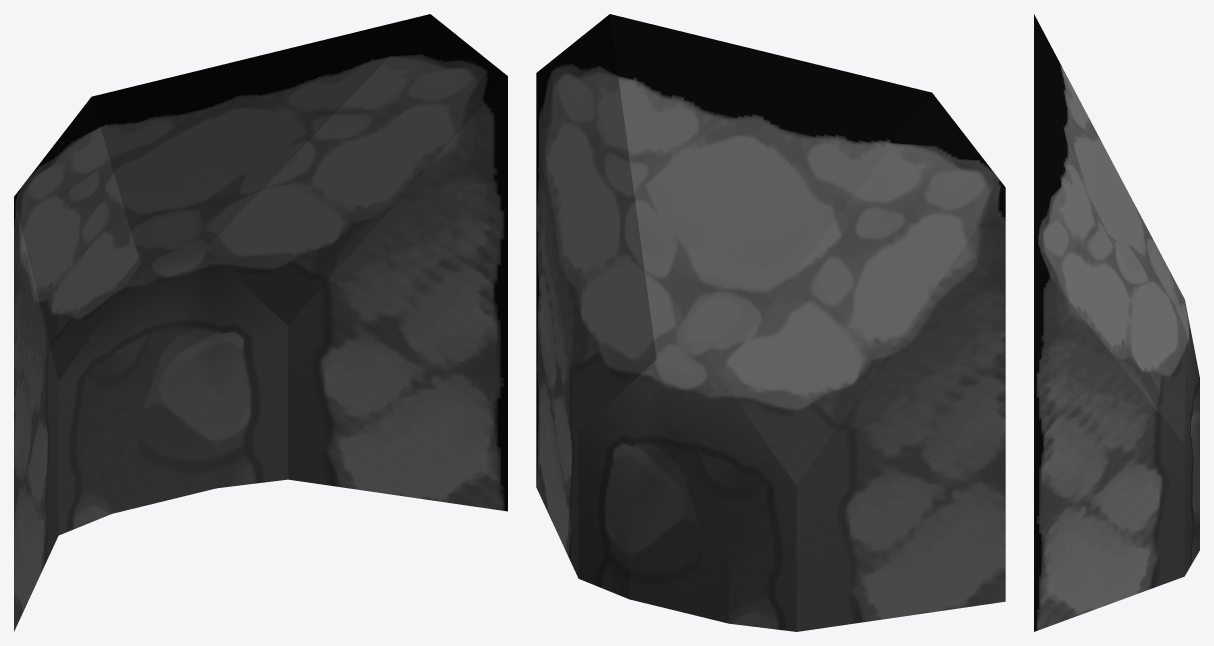
The model's file is Tile4.fbx.
3 views of the same model, side by side, from view 1: azimuth 30°, elevation 25°; view 2: azimuth 150°, elevation 25°; view 3: azimuth 270°, elevation 25° (orthographic). The views are drawn at different scales.
Visible parts, largest first — view 1: polySurface12; view 2: polySurface12; view 3: polySurface12.
Boxes of the visible parts, x1,y1,x2,y2 form: polySurface12: [14, 14, 507, 631]; polySurface12: [536, 14, 1005, 631]; polySurface12: [1034, 14, 1199, 631].
Size of the model in its own units: 1.98 by 1.97 by 0.6688.
Materials: 1 (1 with a texture image).
